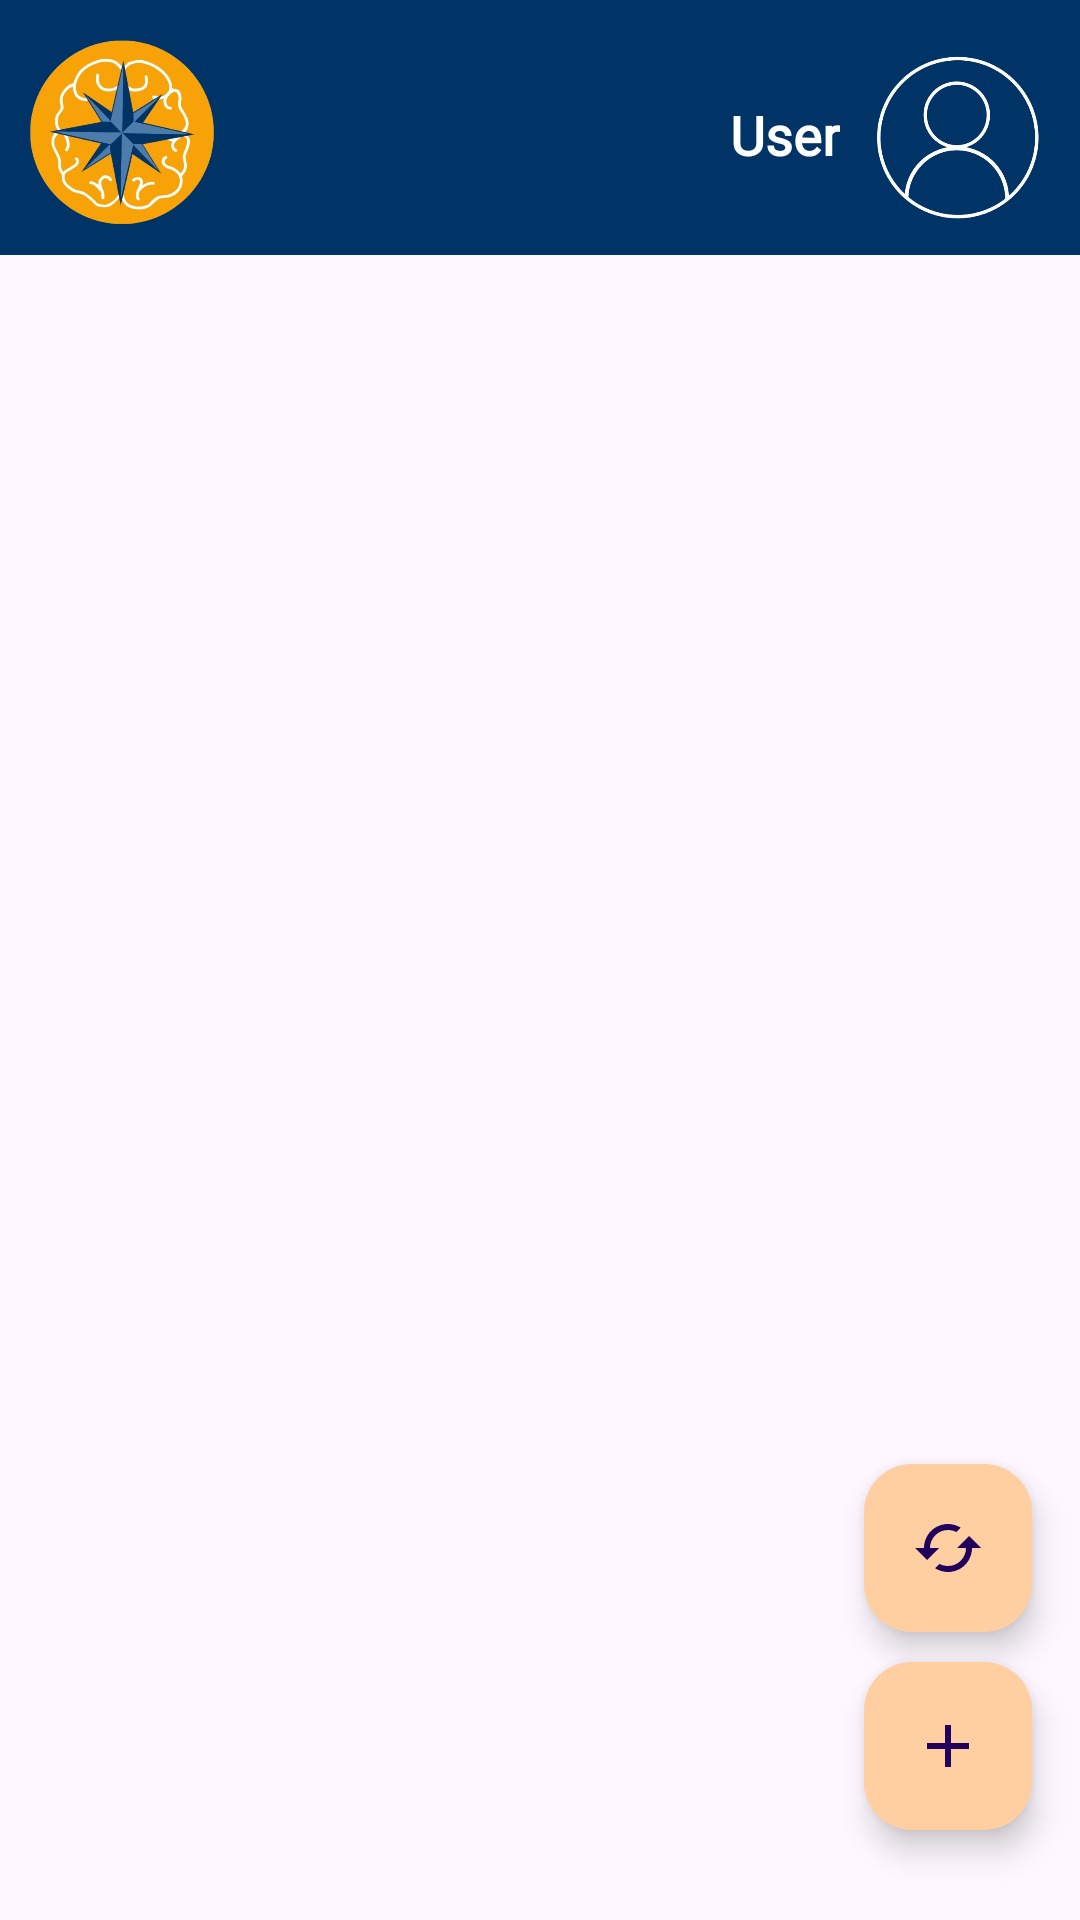

Icon click points for this 1080×1920 phone screenshot, format point (x, y):
add: point (948, 1746)
cached: point (948, 1548)
perfil: point (958, 138)
